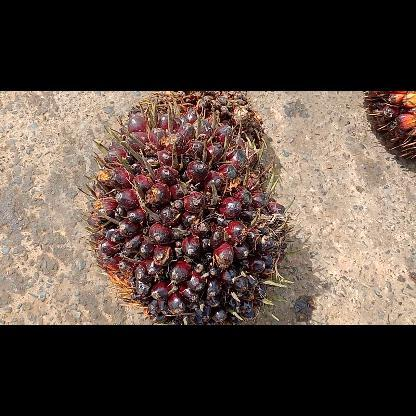Kurang masak: (80, 98, 304, 324)
TBS abnormal: (136, 91, 266, 145)
